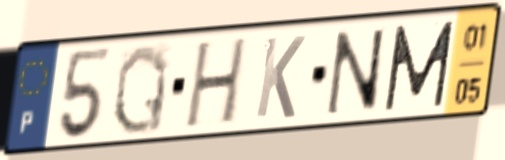5: (55, 44, 113, 144)
H: (181, 34, 252, 133)
K: (252, 33, 309, 121)
M: (381, 17, 458, 115)
N: (324, 26, 387, 119)
Q: (109, 40, 172, 138)
